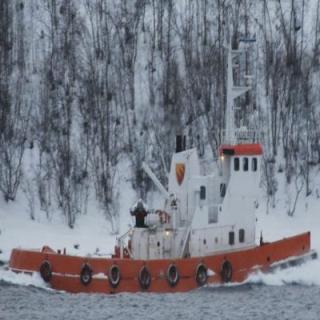Tug Boat: (8, 132, 316, 290)
